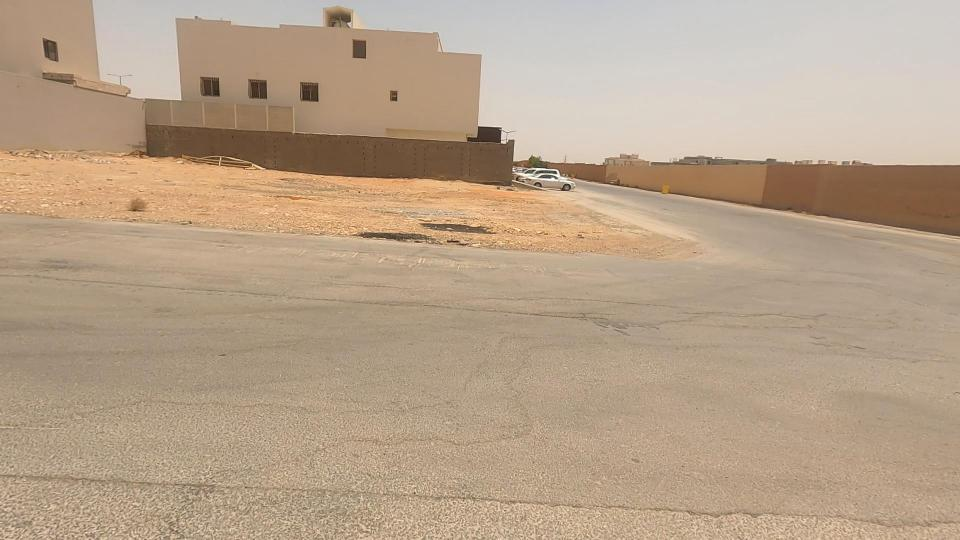GARBAGE: (143, 134, 302, 194)
